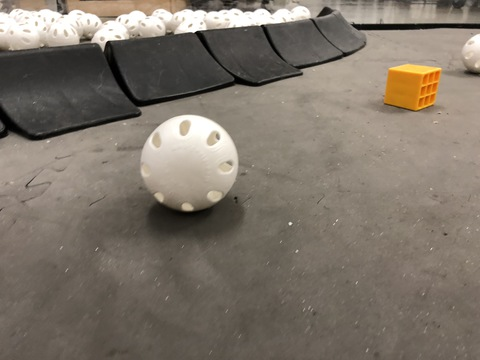ball: (122, 108, 276, 226), (461, 33, 480, 77)
block: (373, 60, 454, 117)
